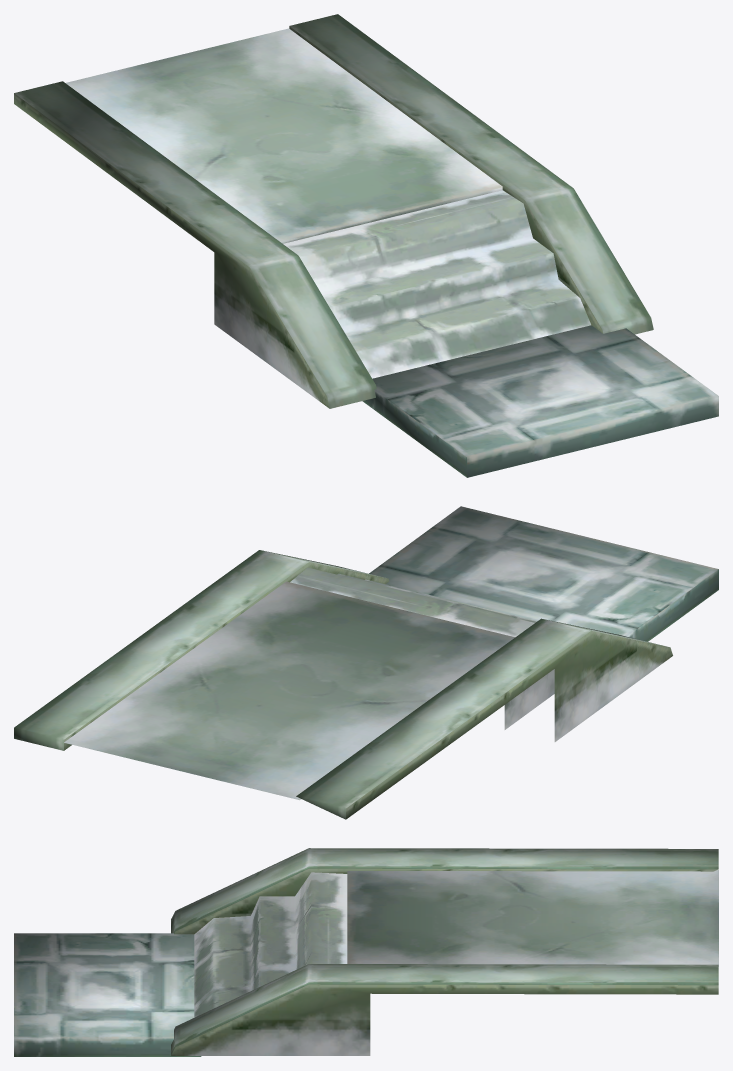
File: SM_House_brick_04.fbx
3 views of the same model, one above another, from view 1: azimuth 30°, elevation 25°; view 2: azimuth 150°, elevation 25°; view 3: azimuth 270°, elevation 25° (orthographic). The views are drawn at different scales.
Parts seen in each view (by area): view 1: SM_House_brick_04; view 2: SM_House_brick_04; view 3: SM_House_brick_04.
Boxes of the visible parts, x1,y1,x2,y2 form: SM_House_brick_04: (14, 14, 718, 477); SM_House_brick_04: (14, 506, 718, 819); SM_House_brick_04: (14, 848, 718, 1056).
Size of the model in its own units: 1.31 by 0.3721 by 2.86.
